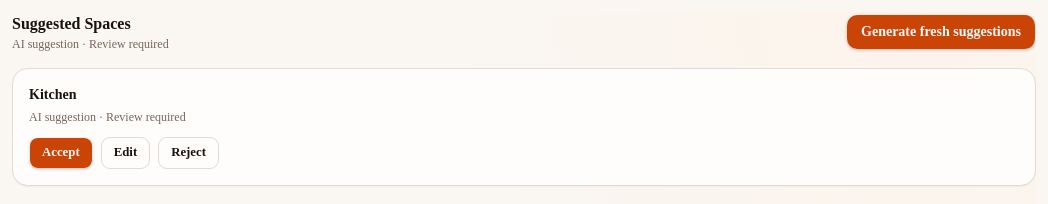
Test: SpaceSuggestionReview › Generate fresh suggestions creates a new batch without deleting the old one from view
The width and height of the screenshot is (1048, 204).
Expected: the text "Kitchen" is shown, [29, 87, 76, 102]
Click the button "Generate fresh suggestions" at (941, 32), box [846, 14, 1036, 50]
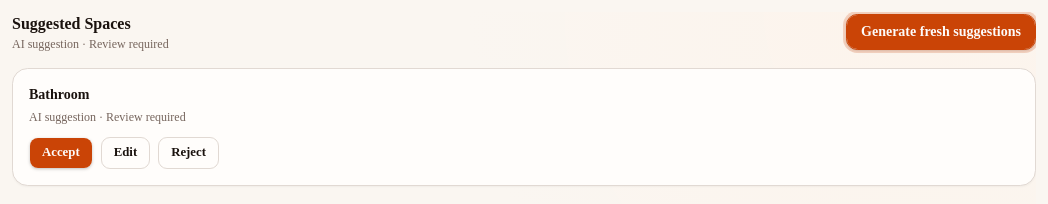
Now the text "Bathroom" is shown, box [29, 87, 89, 102]
